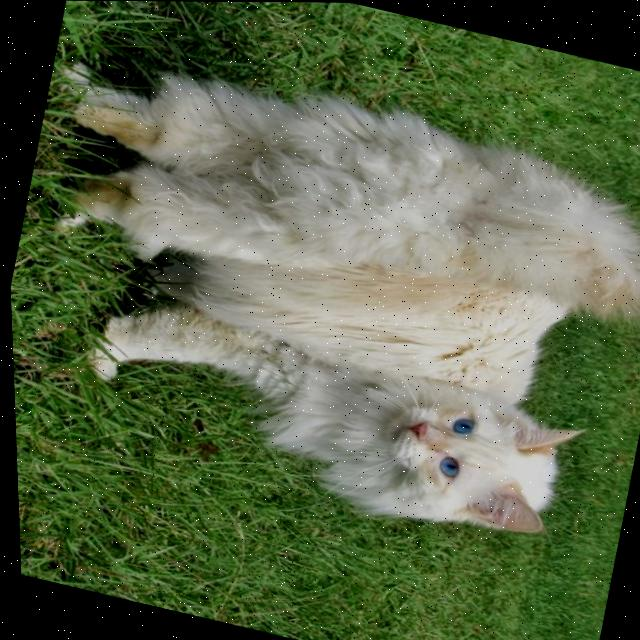American Bobtail: (1, 22, 640, 567)
